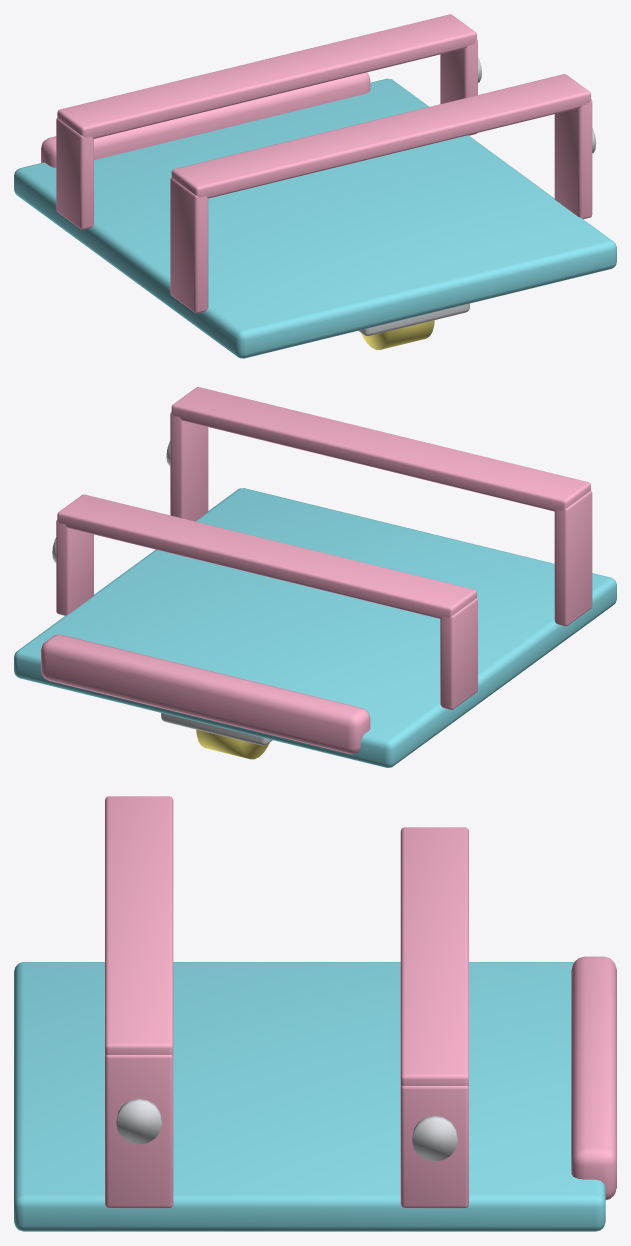
File: ITEM_Skates_Foot.fbx
3 renders of one model, top to bottom at view 1: azimuth 30°, elevation 25°; view 2: azimuth 150°, elevation 25°; view 3: azimuth 270°, elevation 25°, orthographic. The views are drawn at different scales.
Visible parts, largest first — view 1: ITEM_Skates_Foot; view 2: ITEM_Skates_Foot; view 3: ITEM_Skates_Foot.
Boxes of the visible parts, x1,y1,x2,y2 form: ITEM_Skates_Foot: [14, 14, 616, 358]; ITEM_Skates_Foot: [14, 387, 616, 767]; ITEM_Skates_Foot: [14, 796, 616, 1231].
Bounding box in the file's own units: 106 × 50.8 × 106.
